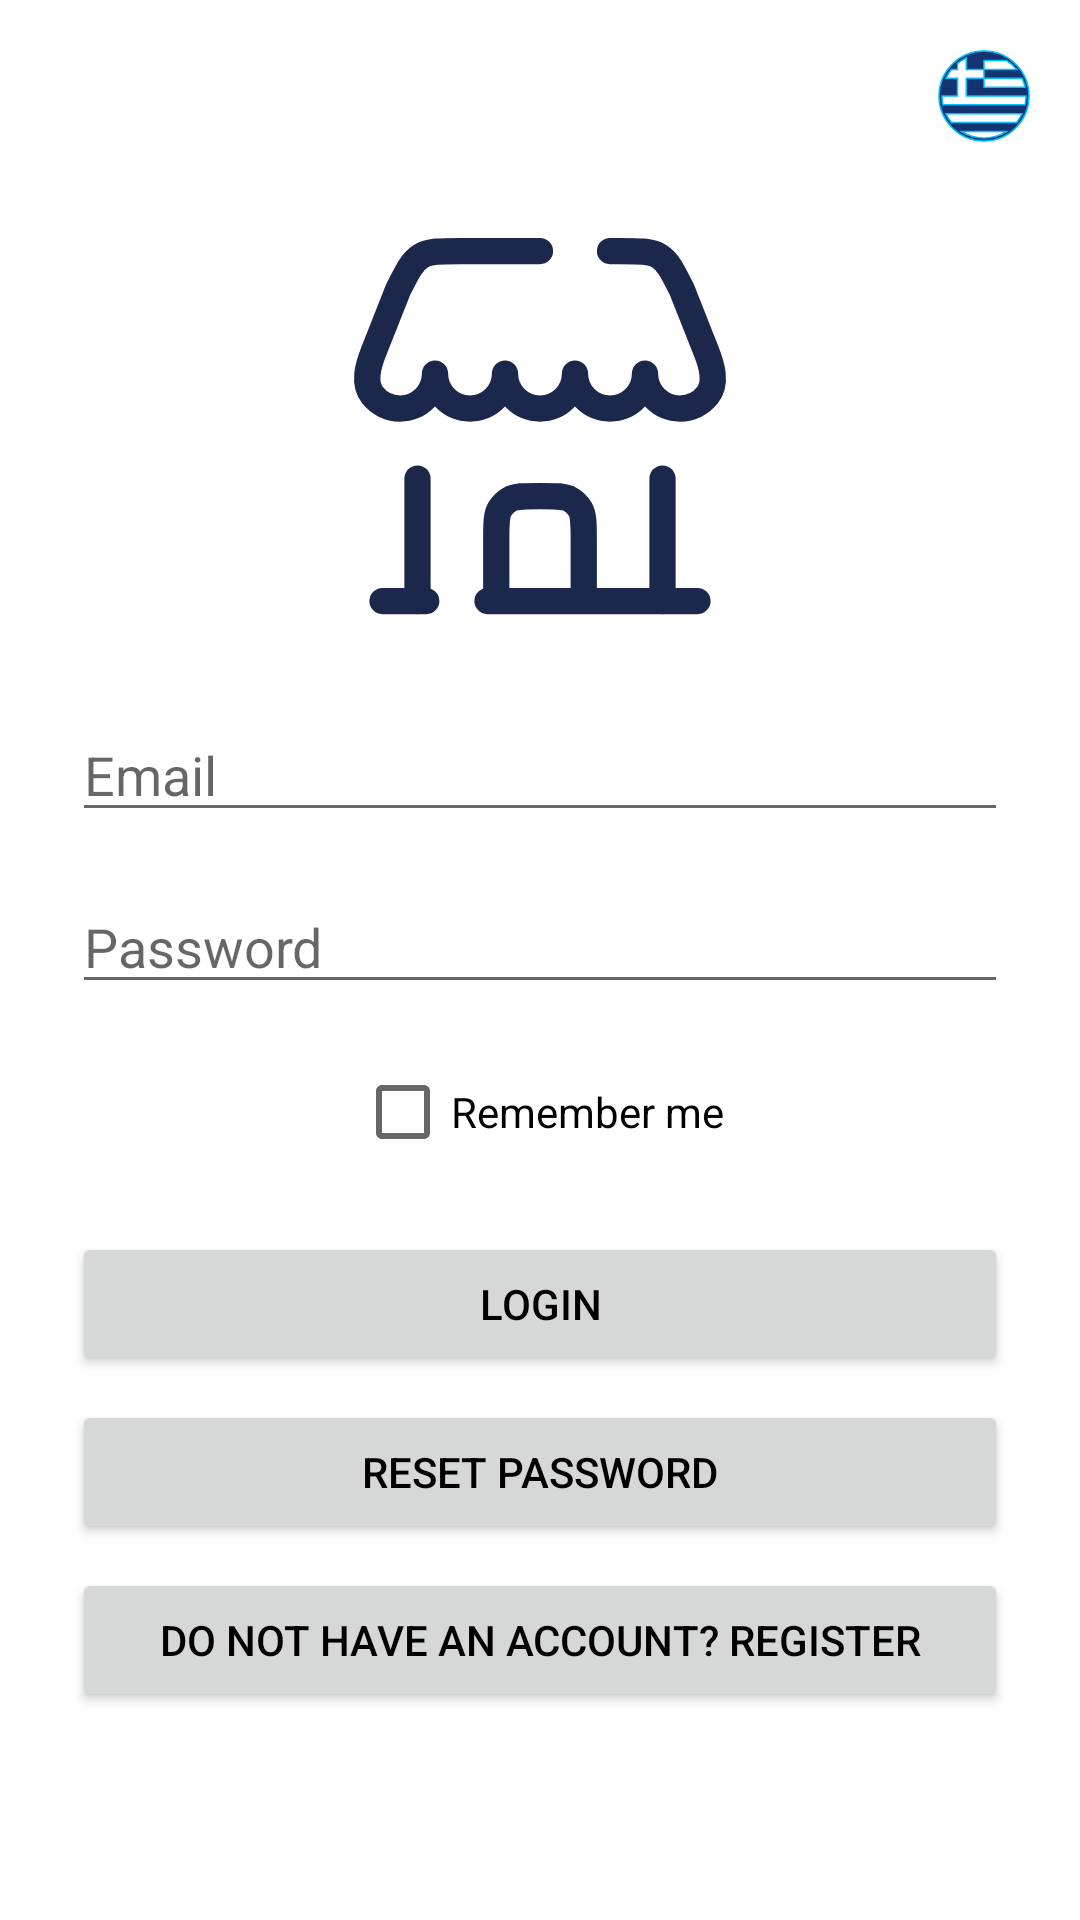

Icon click points for this 1080 x 1920 phone screenshot, format [x,y]:
Toggle Language: [984,96]
